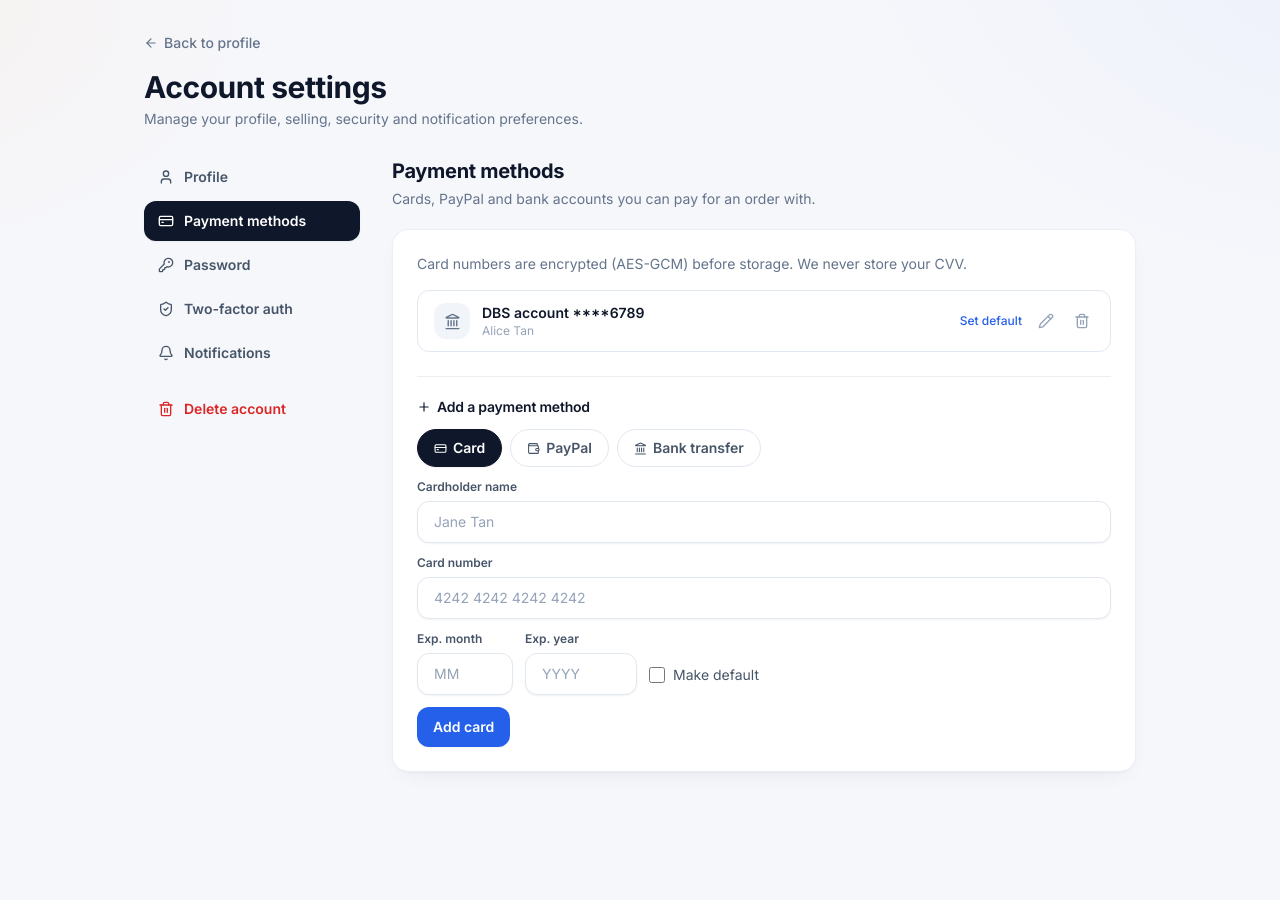
editing a saved payment method › offers holder and bank name for a bank method, never the account number
Click the button named "Edit DBS".
click(1046, 321)  # box [1034,309,1058,333]
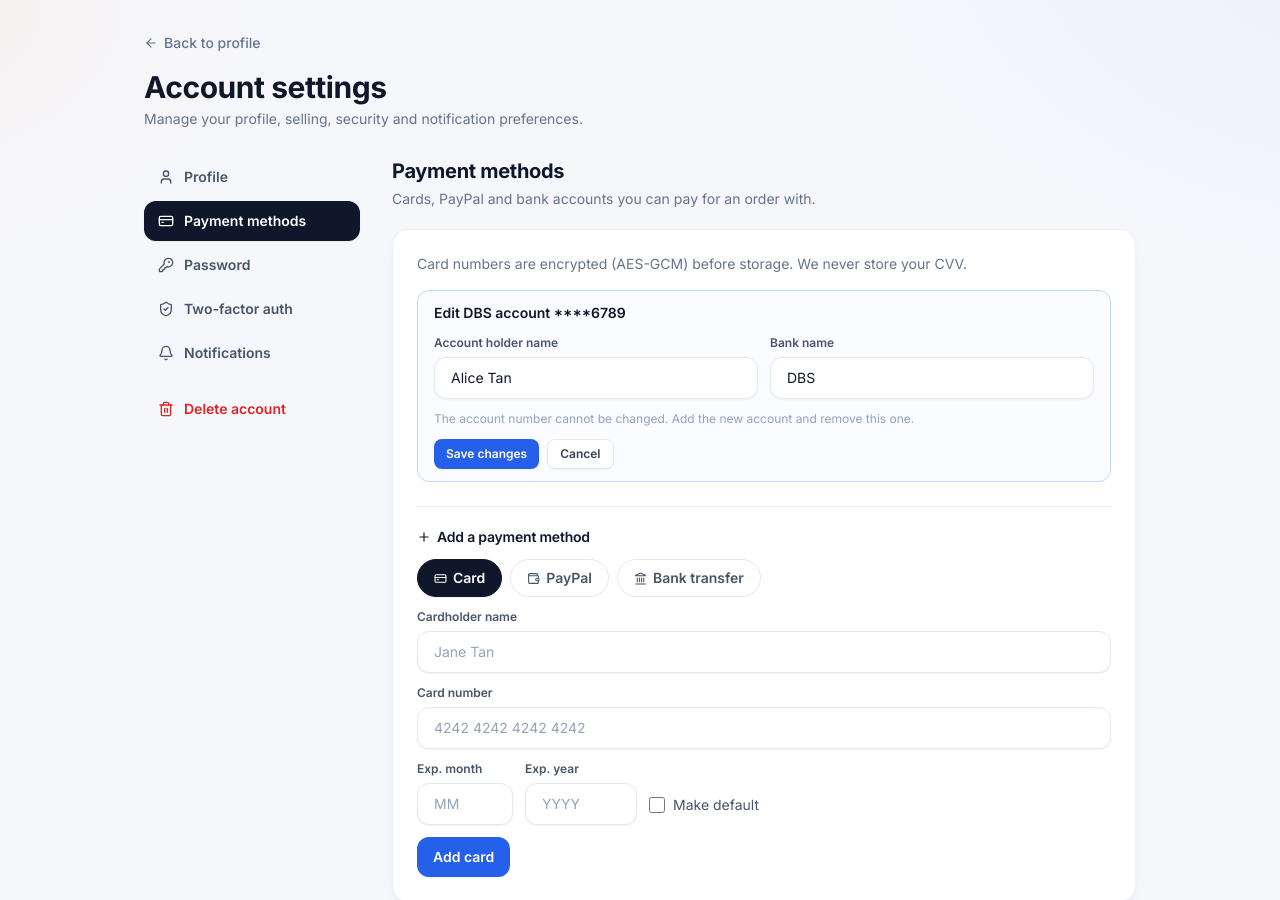
Expected: the field labelled "Account holder name" holds "Alice Tan", [434,357,758,399]
Expected: the field labelled "Bank name" holds "DBS", [770,357,1094,399]
